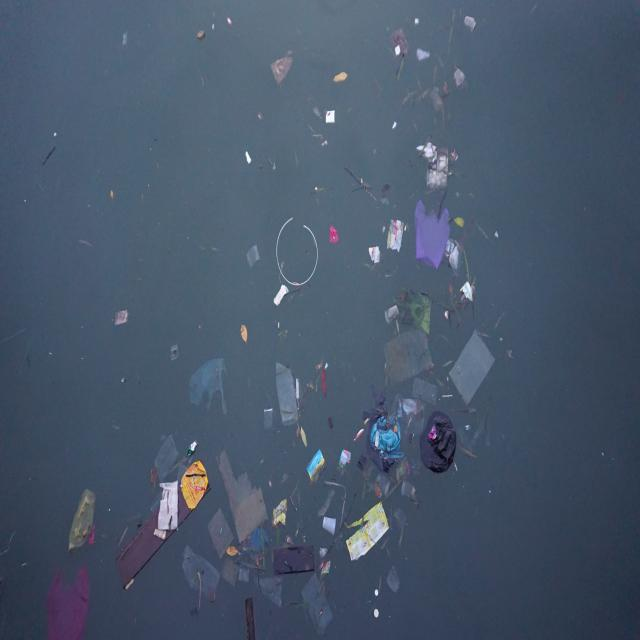Botol Plastik: (374, 609, 380, 620), (375, 589, 380, 599)
Bungkus Makanan: (156, 480, 180, 540), (181, 461, 209, 511), (388, 218, 405, 256), (272, 500, 289, 528), (326, 109, 337, 127)
Bungkus Minuman: (384, 303, 402, 324), (323, 515, 338, 537)
Kantong Plastik: (450, 329, 496, 407), (46, 564, 91, 640), (383, 328, 434, 387), (365, 399, 403, 473), (414, 200, 451, 273), (420, 410, 458, 475), (183, 543, 221, 605), (190, 356, 229, 415), (302, 574, 336, 636), (68, 488, 99, 553), (275, 361, 302, 429), (208, 509, 234, 561)
